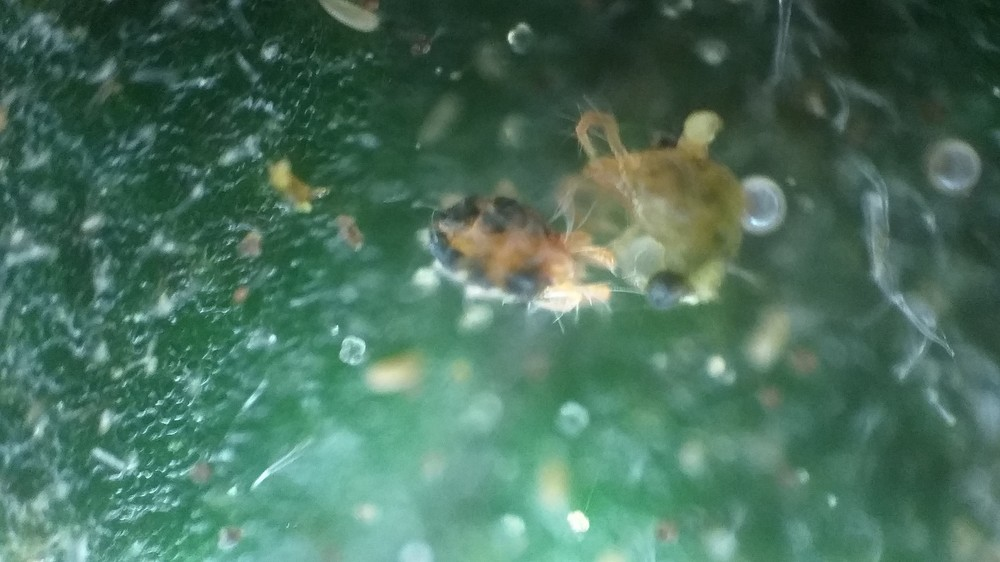Aracnido Rojo: (380, 170, 631, 386), (573, 90, 761, 329)
